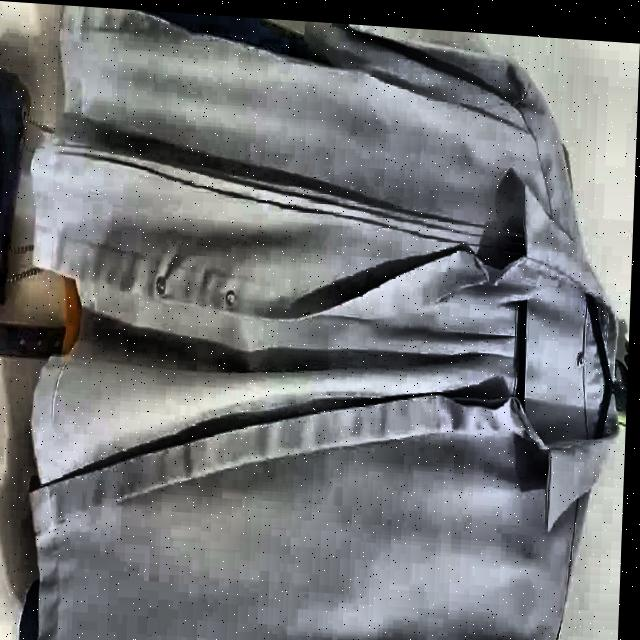clothes: (0, 27, 636, 640)
